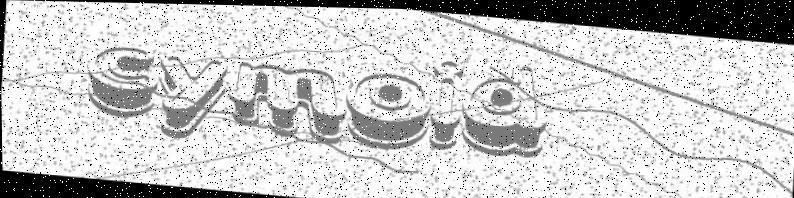c: (81, 41, 161, 122)
d: (457, 57, 551, 158)
i: (427, 55, 464, 151)
m: (225, 58, 349, 145)
o: (343, 68, 433, 153)
y: (152, 52, 229, 143)
